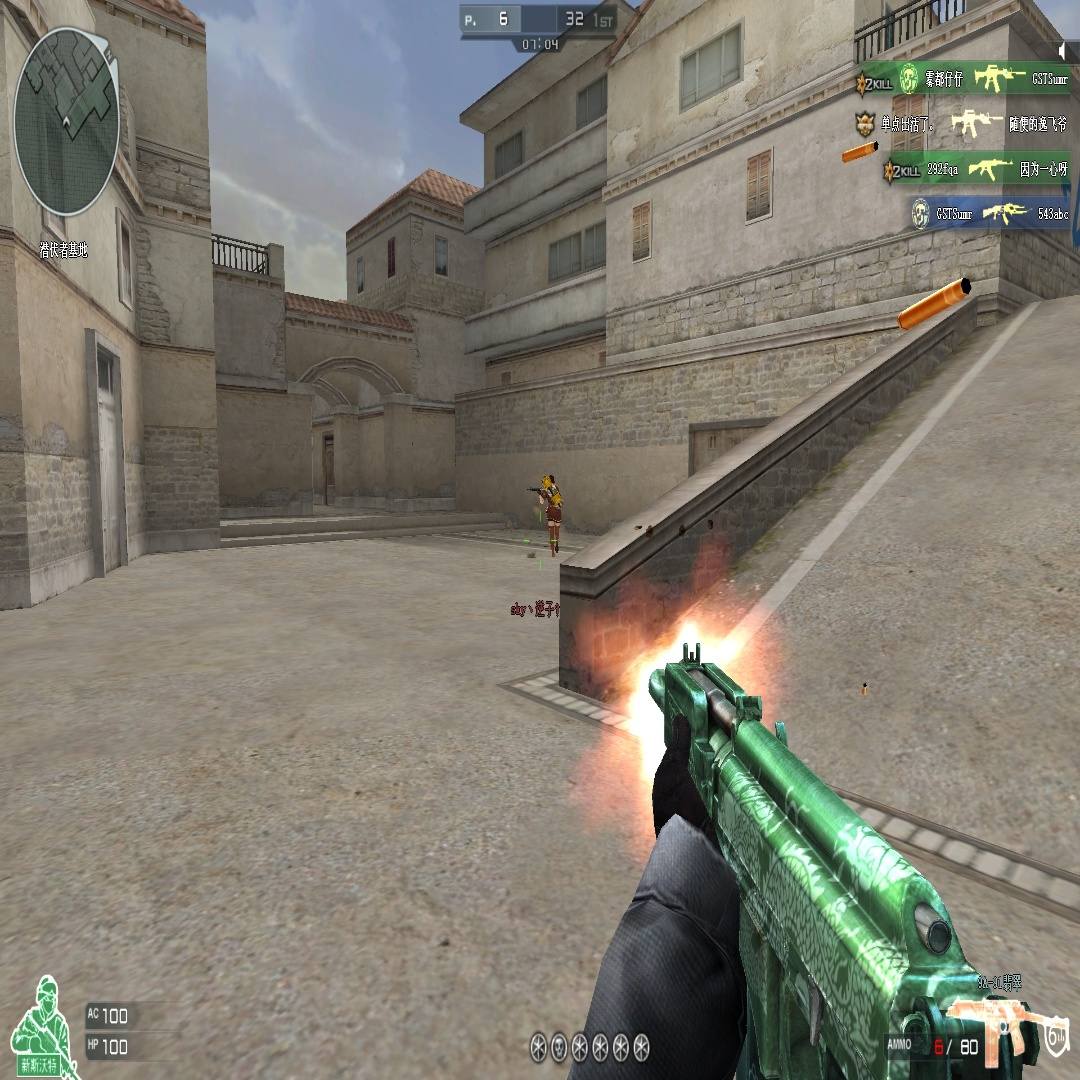p: (539, 471, 563, 557)
